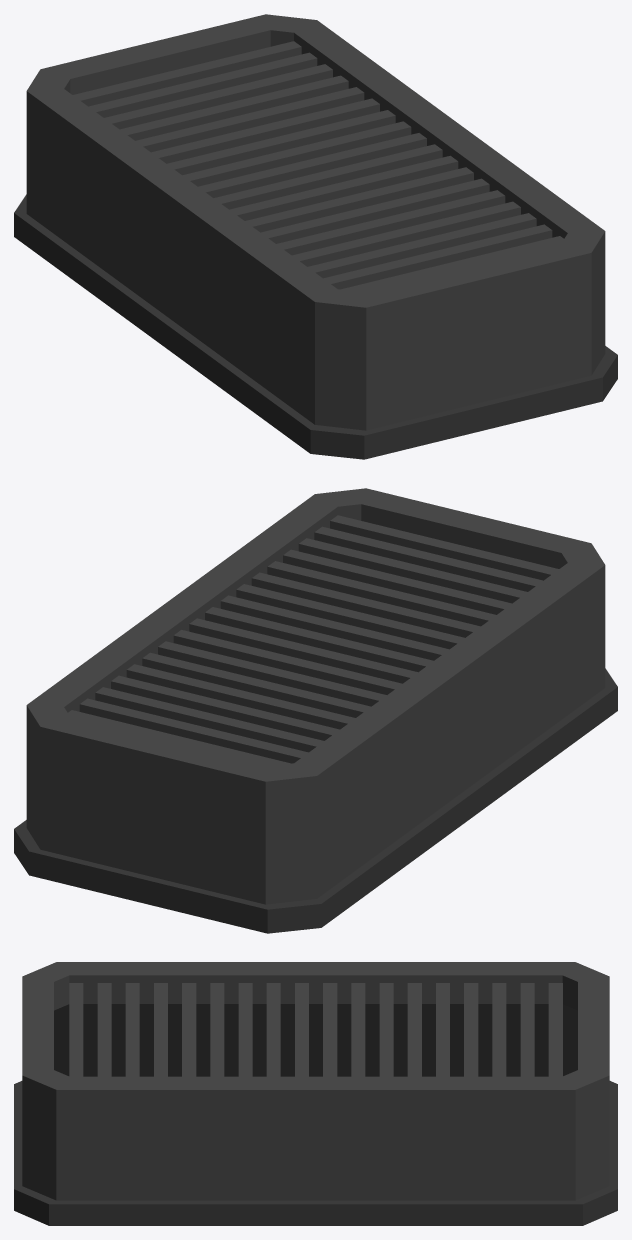
Rendered from SM_BuildingsDecor_03.fbx.
3 views of the same model, one above another, from view 1: azimuth 30°, elevation 25°; view 2: azimuth 150°, elevation 25°; view 3: azimuth 270°, elevation 25° (orthographic). The views are drawn at different scales.
Visible parts, largest first — view 1: SM_BuildingsDecor_03; view 2: SM_BuildingsDecor_03; view 3: SM_BuildingsDecor_03.
Boxes of the visible parts, x1,y1,x2,y2 form: SM_BuildingsDecor_03: (14,14,617,459); SM_BuildingsDecor_03: (14,488,617,933); SM_BuildingsDecor_03: (14,962,617,1225).
Size of the model in its own units: 1.06 by 0.4829 by 2.
